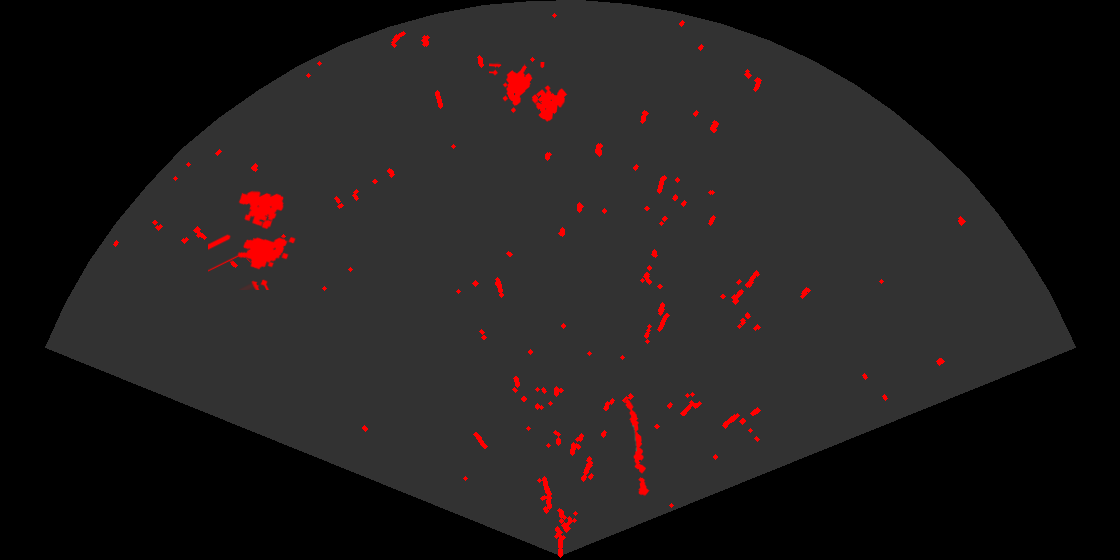cage: (208, 189, 297, 290), (489, 62, 569, 123)
chain: (624, 398, 651, 498)
